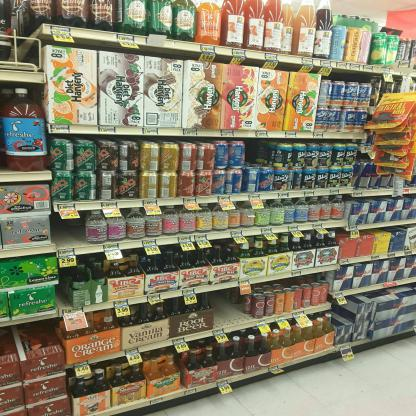Void: (208, 295, 247, 323), (53, 218, 84, 247), (246, 141, 266, 165)
